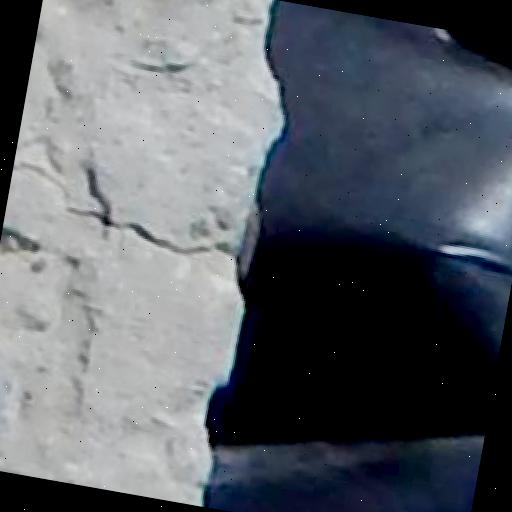spalling: (15, 141, 232, 269), (115, 40, 193, 89)
